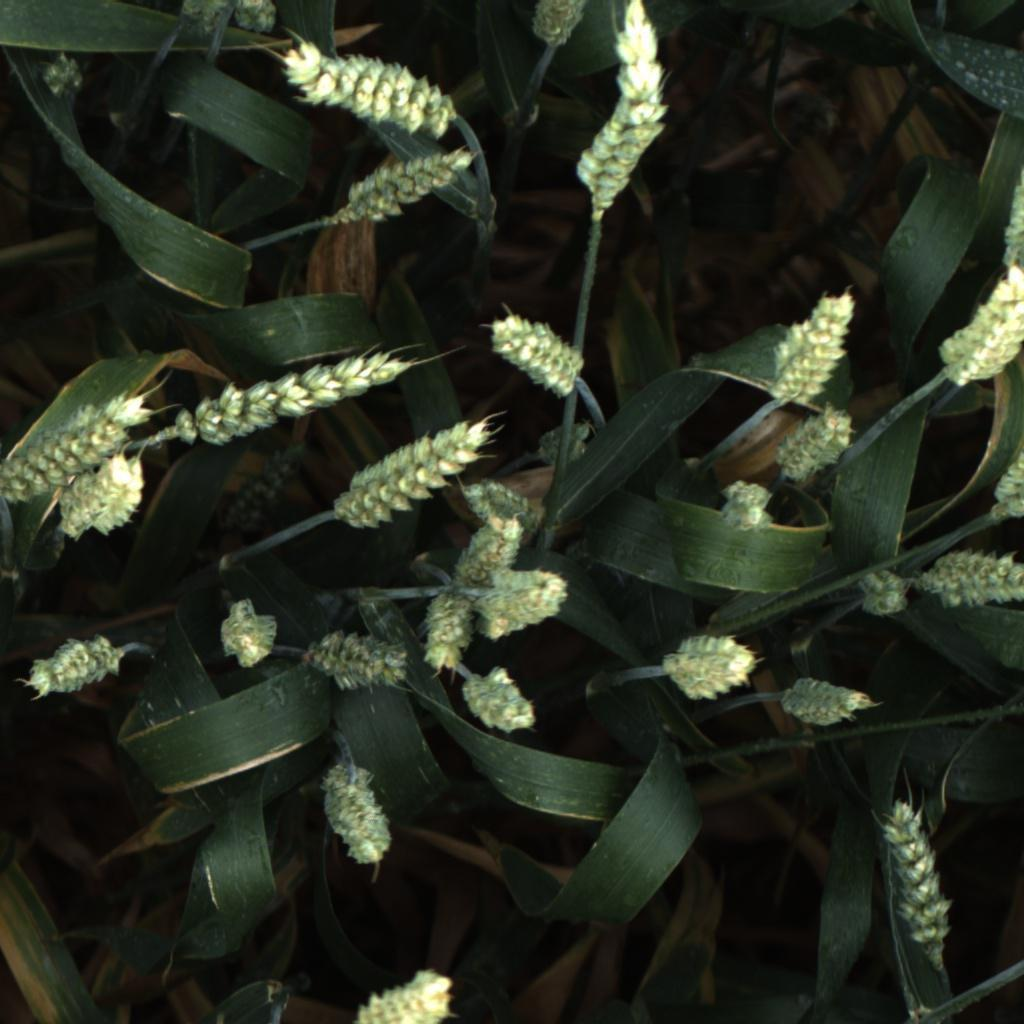0-0: (168, 348, 414, 450), (574, 0, 676, 219), (336, 409, 497, 532), (4, 387, 156, 513), (280, 38, 455, 141), (879, 799, 957, 975), (319, 146, 474, 230), (933, 263, 1023, 389), (765, 292, 856, 405), (484, 308, 587, 406), (316, 760, 398, 870), (210, 448, 306, 540), (48, 453, 148, 541), (307, 618, 408, 699), (661, 626, 756, 706), (24, 627, 124, 702), (457, 472, 554, 547), (912, 547, 1024, 611), (767, 408, 858, 483), (474, 570, 569, 639), (347, 967, 456, 1024), (459, 659, 536, 736), (778, 668, 873, 729), (453, 518, 526, 595), (416, 589, 479, 675), (215, 593, 283, 671), (31, 37, 100, 109), (715, 478, 774, 539), (537, 418, 599, 473), (858, 564, 912, 622), (531, 0, 586, 52), (989, 443, 1024, 522), (1001, 162, 1024, 274), (177, 0, 227, 37), (231, 0, 277, 37)
